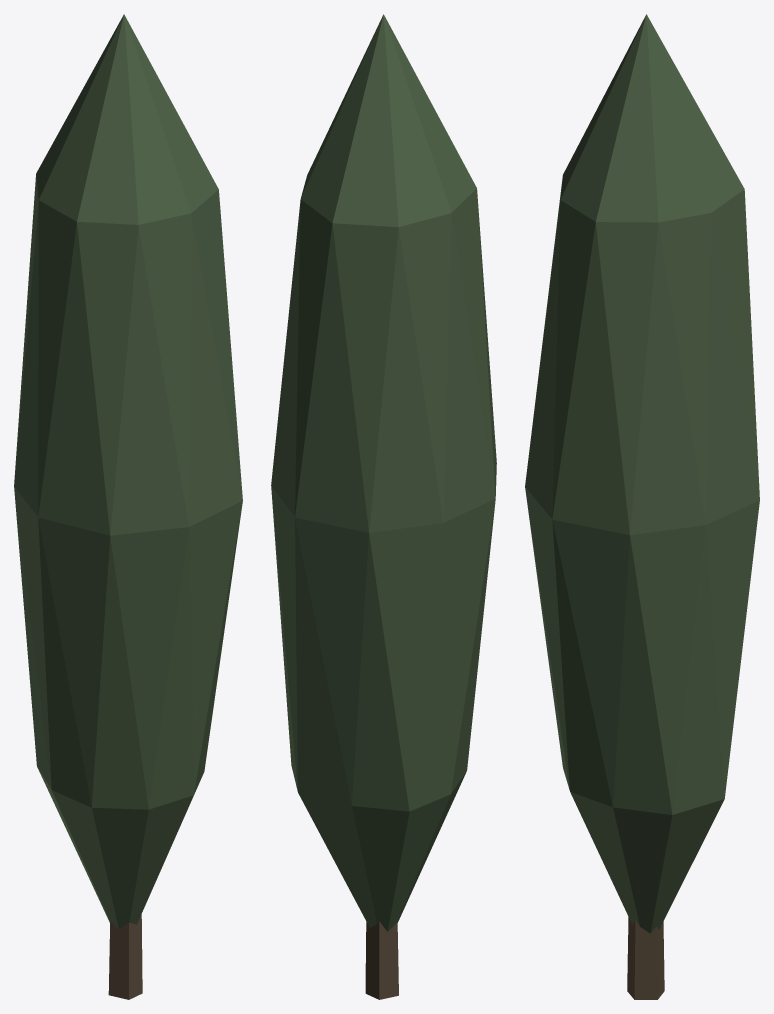
3 renders of one model, left to right at view 1: azimuth 30°, elevation 25°; view 2: azimuth 150°, elevation 25°; view 3: azimuth 270°, elevation 25°, orthographic.
Parts seen in each view (by area): view 1: thuja-previous; view 2: thuja-previous; view 3: thuja-previous.
Part boxes in pixels (x1=…): thuja-previous: x1=14, y1=14, x2=242, y2=999; thuja-previous: x1=271, y1=14, x2=496, y2=999; thuja-previous: x1=525, y1=14, x2=759, y2=999.
Bounding box in the file's own units: 4.33 × 19.99 × 4.34.
